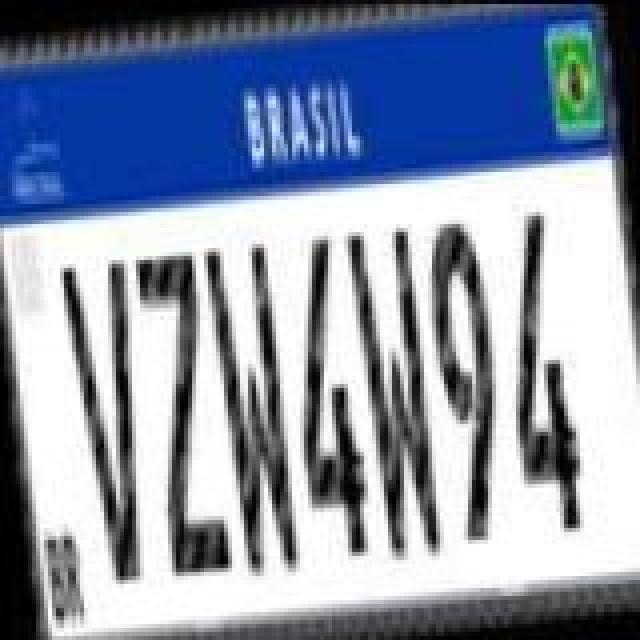4: (486, 200, 590, 544), (270, 224, 374, 564)
9: (414, 208, 518, 544)
V: (54, 252, 162, 588)
W: (340, 218, 448, 566), (196, 234, 304, 574)
Z: (128, 244, 232, 584)
